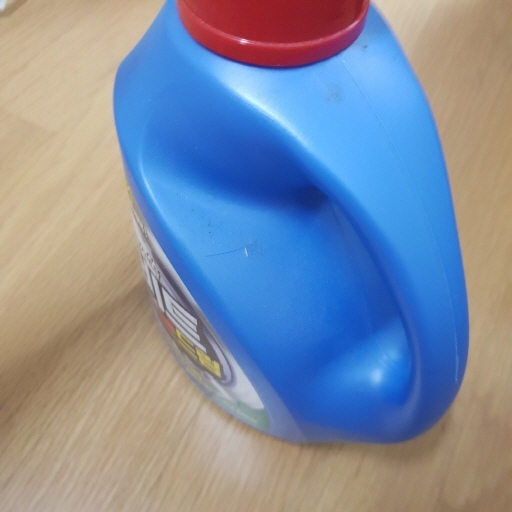Plastic_1: (113, 1, 468, 442)
